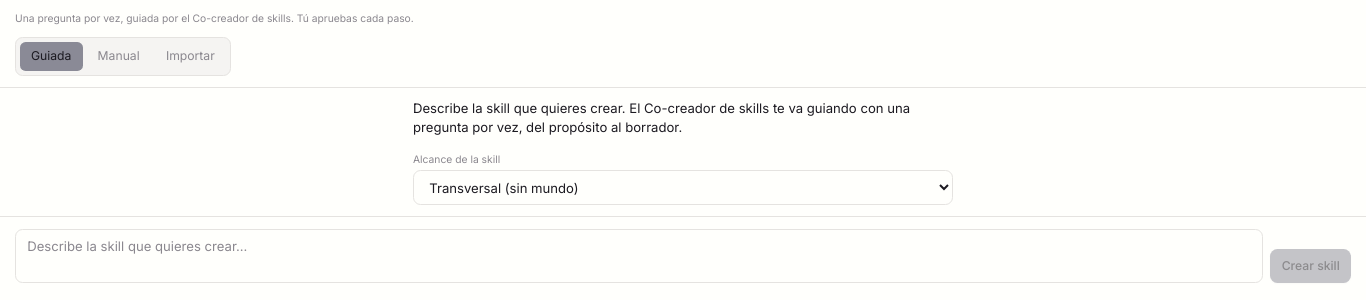
Test: CoCreationPanel — authoring sub-modes (REQ-CC-1) › renders the .zip import/quarantine block in import mode (SC-CC-1.3)
Click the tab "Importar".
click(190, 56)  # box [155,42,226,71]
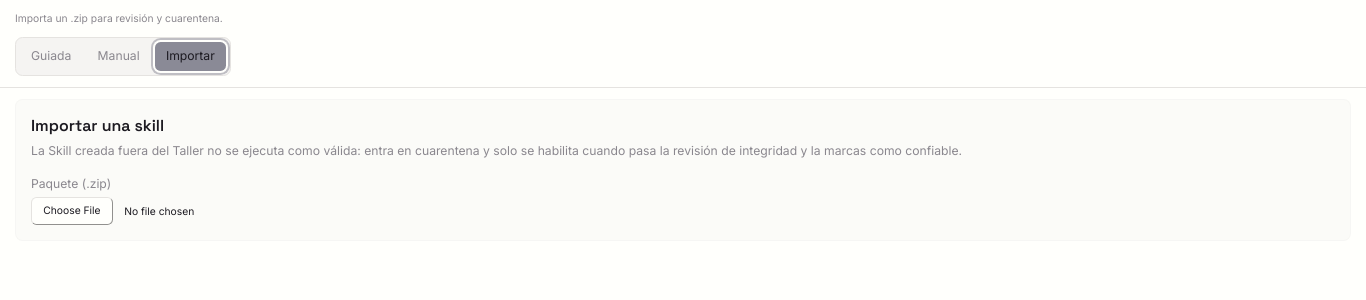
expect the heading "Importar una skill" is shown: met, box [31,116,164,136]
expect the file field labelled "Paquete (.zip)" is shown: met, box [31,197,252,224]
